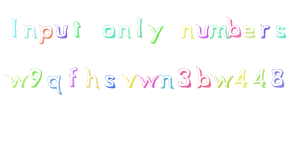3: (177, 67, 192, 88)
4: (252, 67, 267, 88), (234, 67, 248, 88)
8: (270, 67, 286, 88)
9: (28, 67, 43, 89)
I: (5, 14, 26, 40)
b: (225, 14, 241, 40), (196, 65, 211, 88)
e: (241, 23, 256, 39)
f: (67, 65, 79, 88)
h: (85, 66, 101, 88)
l: (134, 15, 145, 39)
m: (209, 22, 228, 40)
n: (21, 22, 38, 40), (178, 23, 194, 40), (116, 24, 132, 40), (159, 74, 174, 88)
o: (101, 24, 116, 40)
p: (38, 23, 54, 46)
q: (46, 74, 61, 96)
r: (257, 23, 271, 40)
s: (273, 23, 288, 40), (103, 73, 118, 89)
t: (70, 19, 83, 38)
u: (54, 23, 69, 39), (195, 23, 209, 39)
v: (121, 73, 137, 89)
w: (5, 73, 29, 89), (211, 73, 235, 89), (138, 74, 159, 89)
y: (146, 23, 165, 45)
